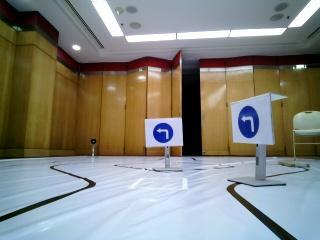left: (231, 103, 270, 137), (146, 120, 181, 146)
